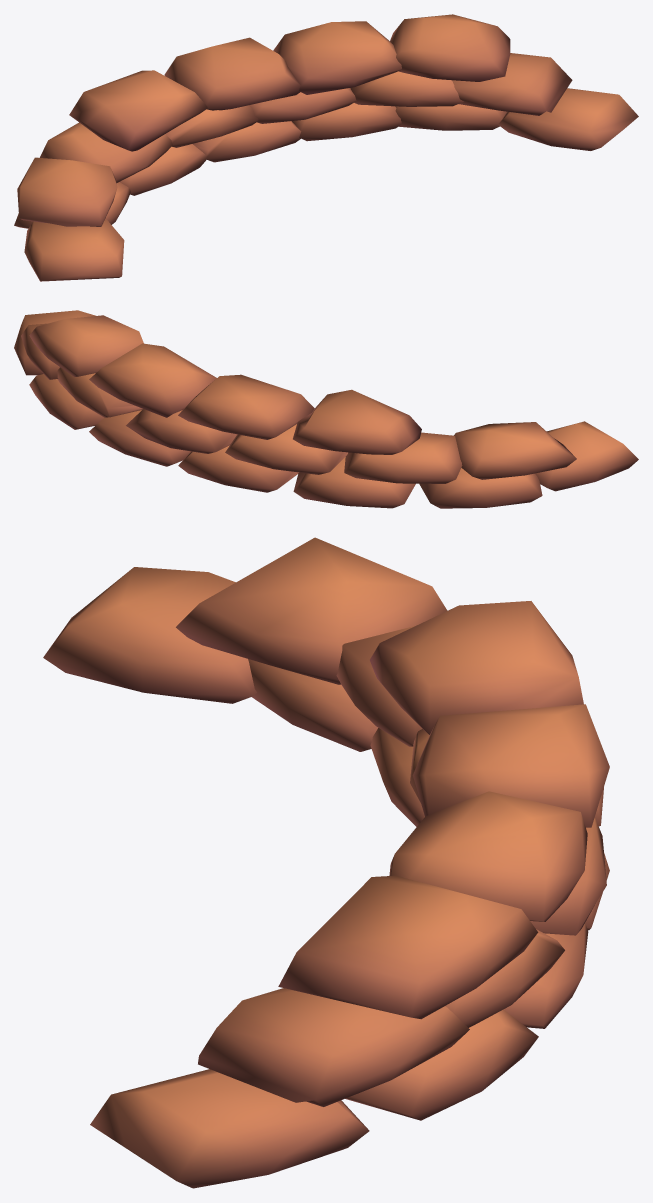
File: Sandbags_Curved.fbx
3 views of the same model, one above another, from view 1: azimuth 30°, elevation 25°; view 2: azimuth 150°, elevation 25°; view 3: azimuth 270°, elevation 25° (orthographic). The views are drawn at different scales.
Visible parts, largest first — view 1: MDL_Sandbags_Curved; view 2: MDL_Sandbags_Curved; view 3: MDL_Sandbags_Curved.
Boxes of the visible parts, <box> form: MDL_Sandbags_Curved: <box>14,14,638,281</box>; MDL_Sandbags_Curved: <box>14,310,638,508</box>; MDL_Sandbags_Curved: <box>43,537,609,1188</box>.
Bounding box in the file's own units: 2.74 × 0.3746 × 1.12.
